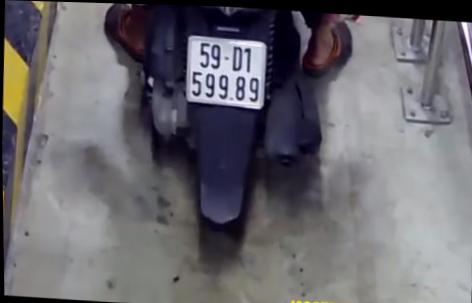LP: (183, 31, 269, 109)
